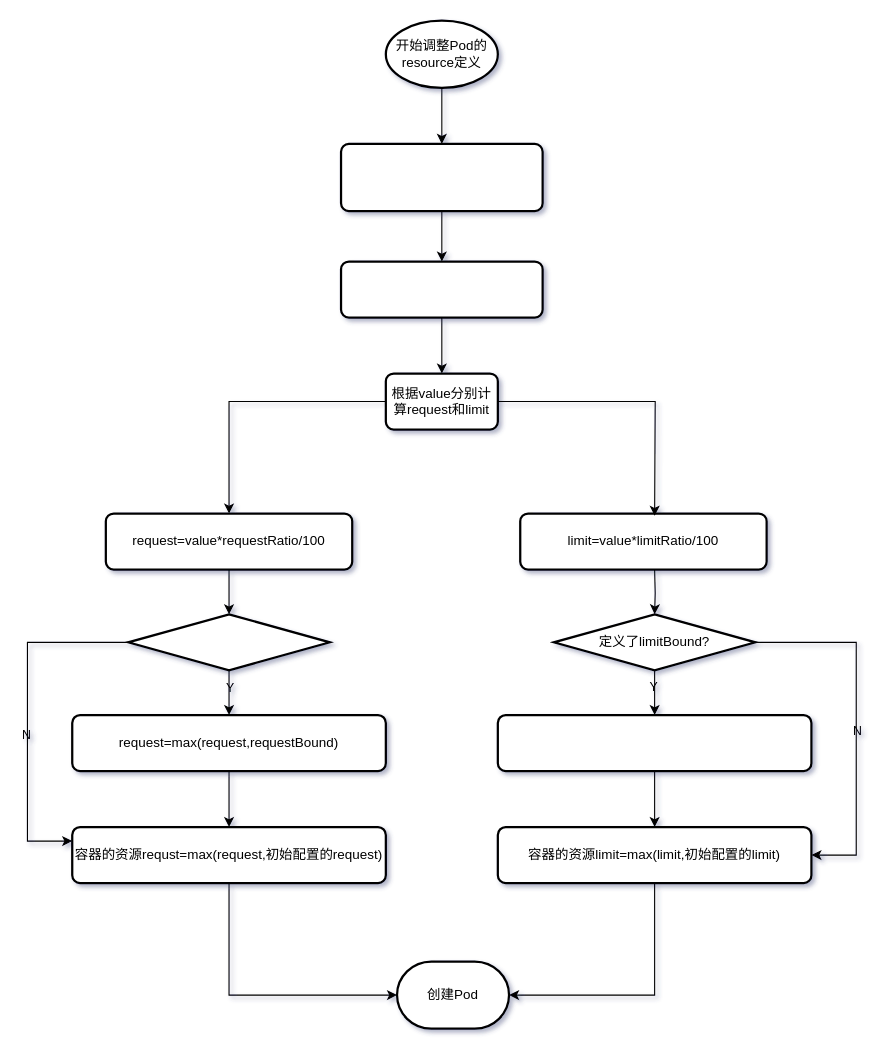
Some shapes in this 892 by 1055 pixel diagram are drawn without their labels. Each missing label, with the centre of its shape:
limit=min(limit,limitBound): (x=654, y=742)
value=min(value,scaleMax): (x=441, y=289)
从缓存中根据种子类型取出之前Pod资源实际占用的最高值 value: (x=441, y=177)
定义了requestBound?: (x=228, y=642)
